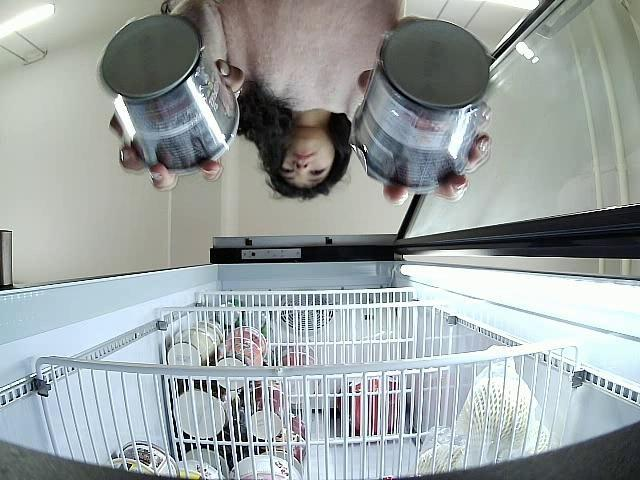08_buldak_S: (349, 19, 492, 190), (98, 15, 241, 174)
